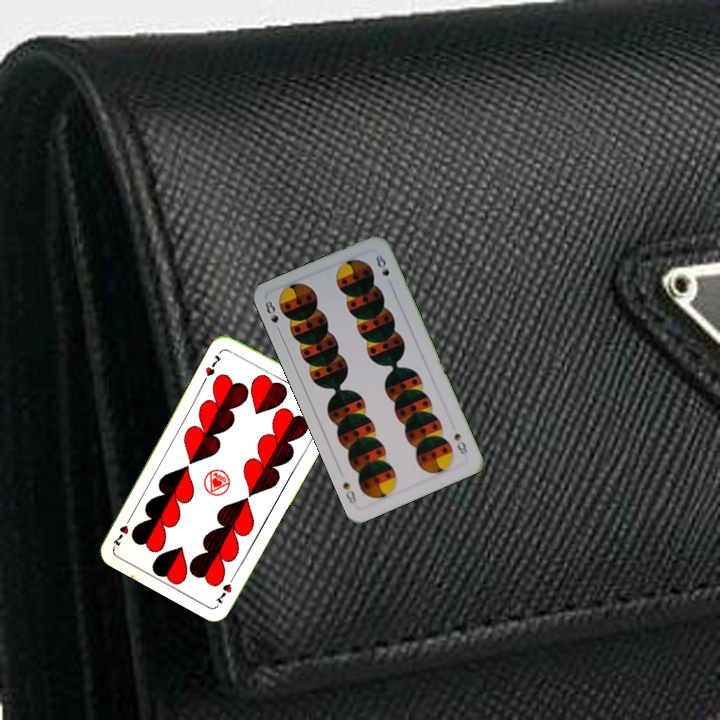H7: (211, 570, 238, 607), (201, 351, 225, 379)
S8: (261, 296, 284, 336), (450, 429, 470, 457)
